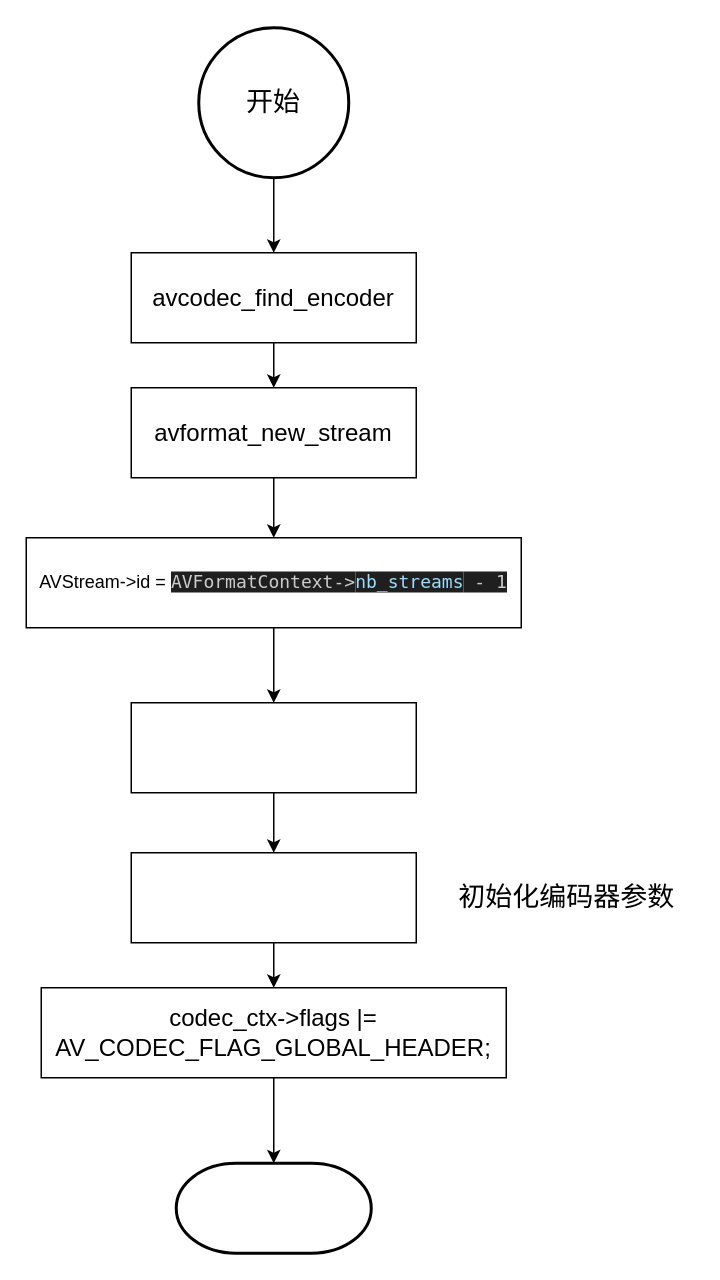
Some shapes in this 720 by 1280 pixel diagram are drawn without their labels. Here are the shapes that lost their labels. From the top down, the centre of each, then its label:
At point (273, 747): "avcodec_alloc_context3".
At point (273, 897): "init_codec_parm".
At point (273, 1207): "end".
